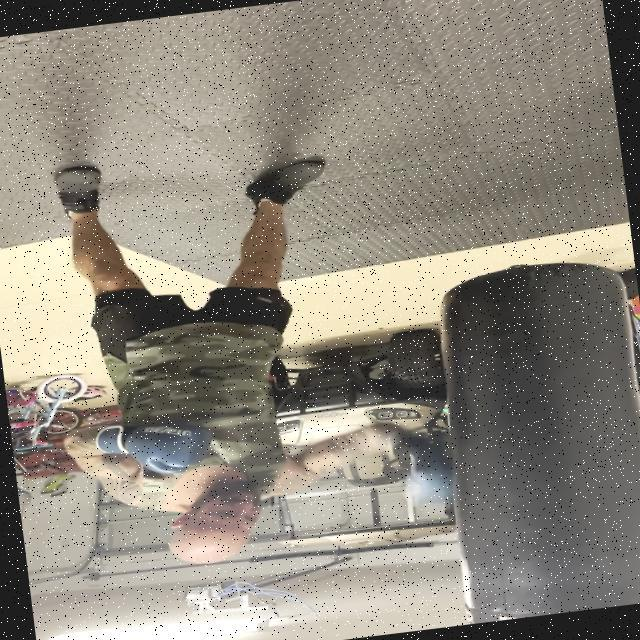bag: (413, 252, 640, 625)
uppercut: (65, 374, 477, 590)
